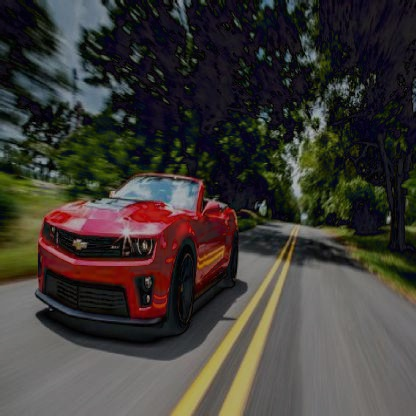Vehicle: (34, 170, 242, 340)
